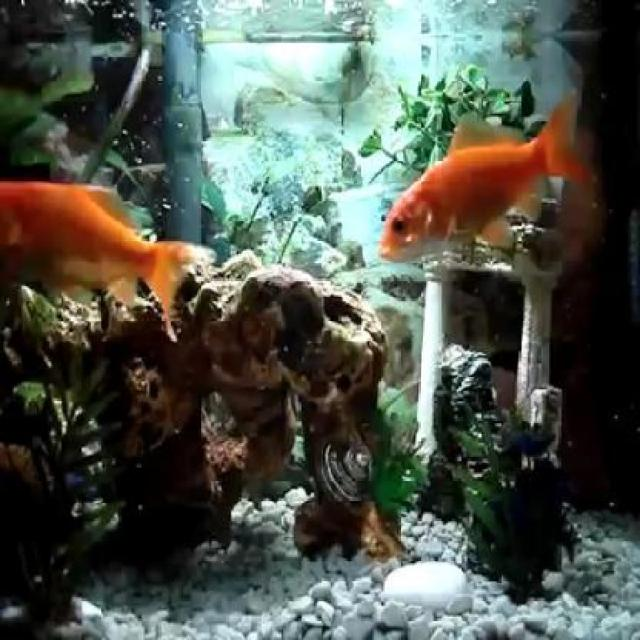GoldFish: (376, 85, 592, 262), (0, 170, 218, 341)
